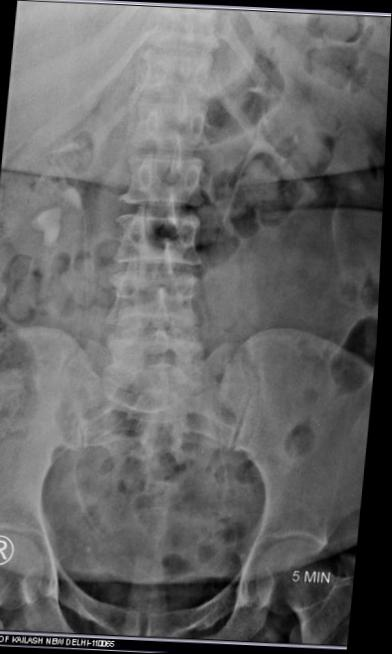vertebrae: (128, 91, 208, 155)
